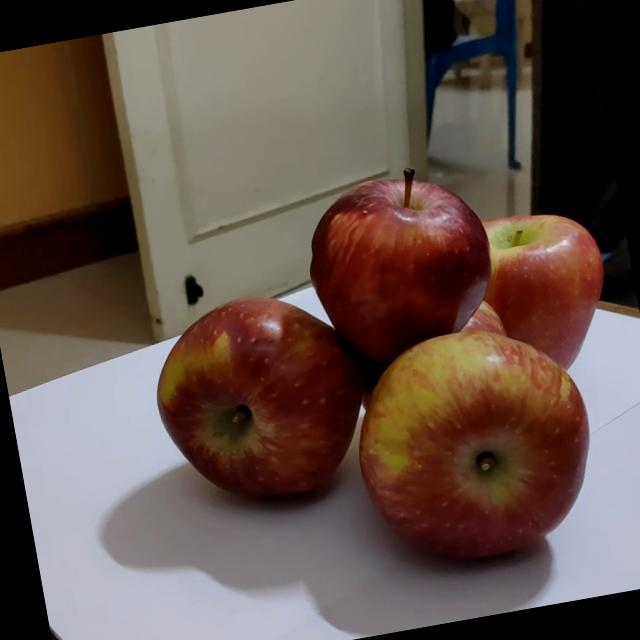apple: (137, 254, 409, 538), (386, 332, 602, 556), (314, 150, 524, 364), (450, 175, 640, 368)
